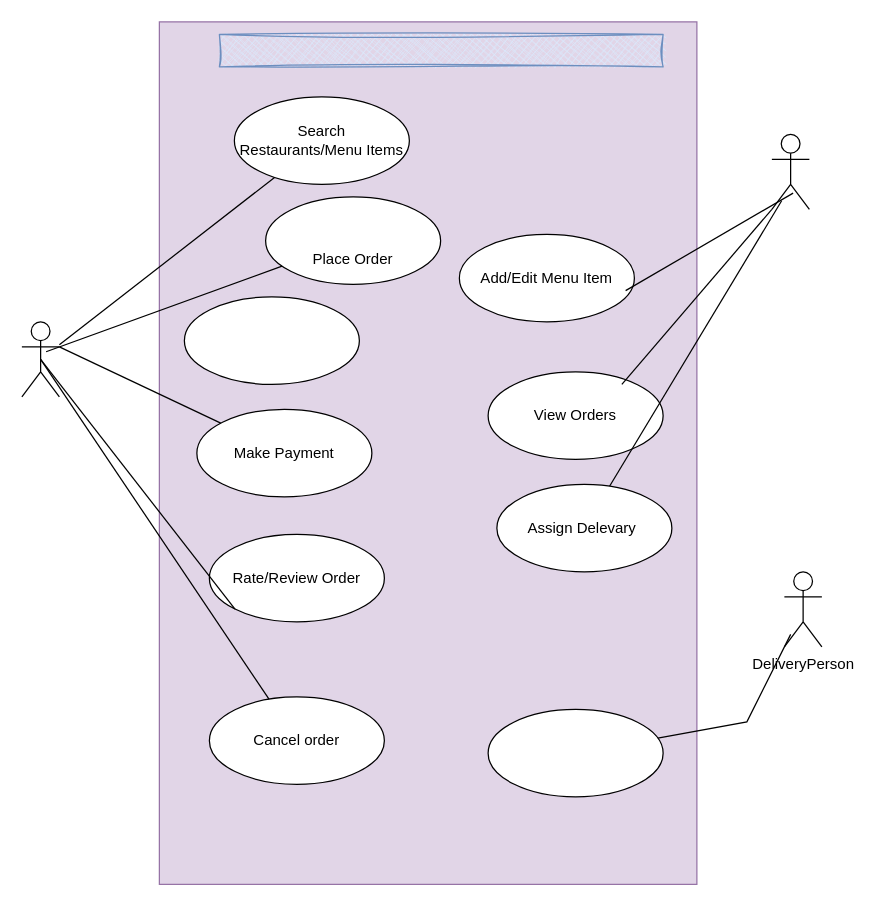
Some shapes in this 875 by 906 pixel diagram are drawn without their labels. Here are the shapes that lost their labels. From the top down, the centre of each, then its label:
(440,50): Use Case For Food Delivery
(790,171): Restaurant
(40,359): User
(271,340): Track Order
(575,752): Accept/Reject Delivery
